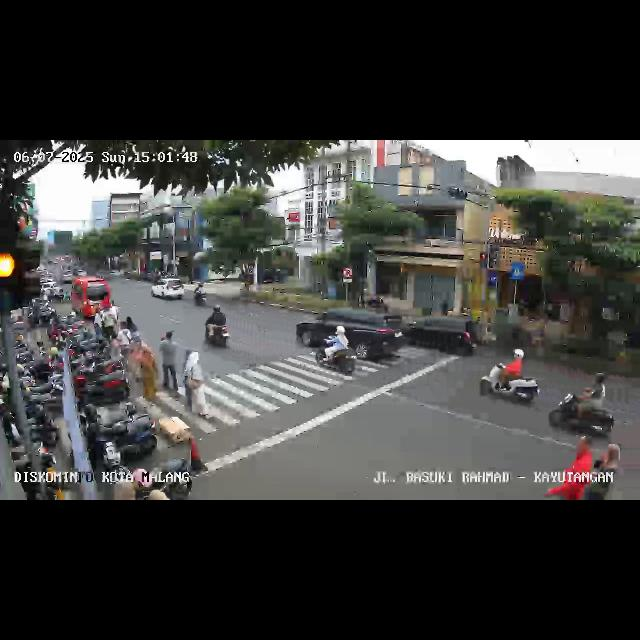car: (295, 308, 403, 358), (402, 314, 482, 361), (70, 276, 114, 320), (150, 277, 188, 303)
motorcycle: (548, 372, 616, 434), (480, 352, 540, 412), (314, 322, 361, 382), (202, 306, 232, 349), (194, 283, 206, 305)
person: (543, 435, 593, 499), (182, 346, 214, 419), (590, 442, 628, 500), (160, 332, 182, 396), (138, 346, 160, 404), (118, 321, 130, 363), (126, 316, 140, 348), (102, 307, 115, 337)
